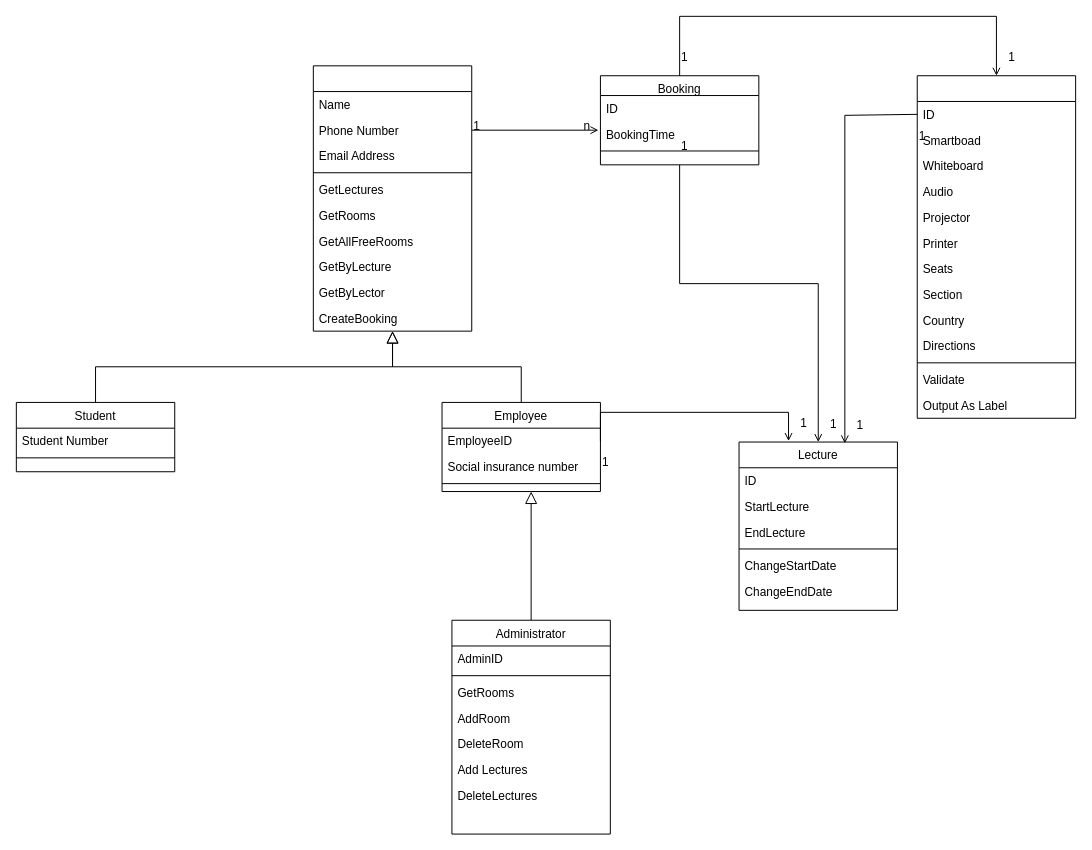
The diagram is 1092 pixels wide and 850 high, and some of its shapes have lost their labels. The shapes that lost their labels are listed below. From the top down, each one's box as (x1, y1, x2, y2) in pixels, then its label:
(312, 65, 472, 331): Users
(916, 75, 1076, 418): Room
